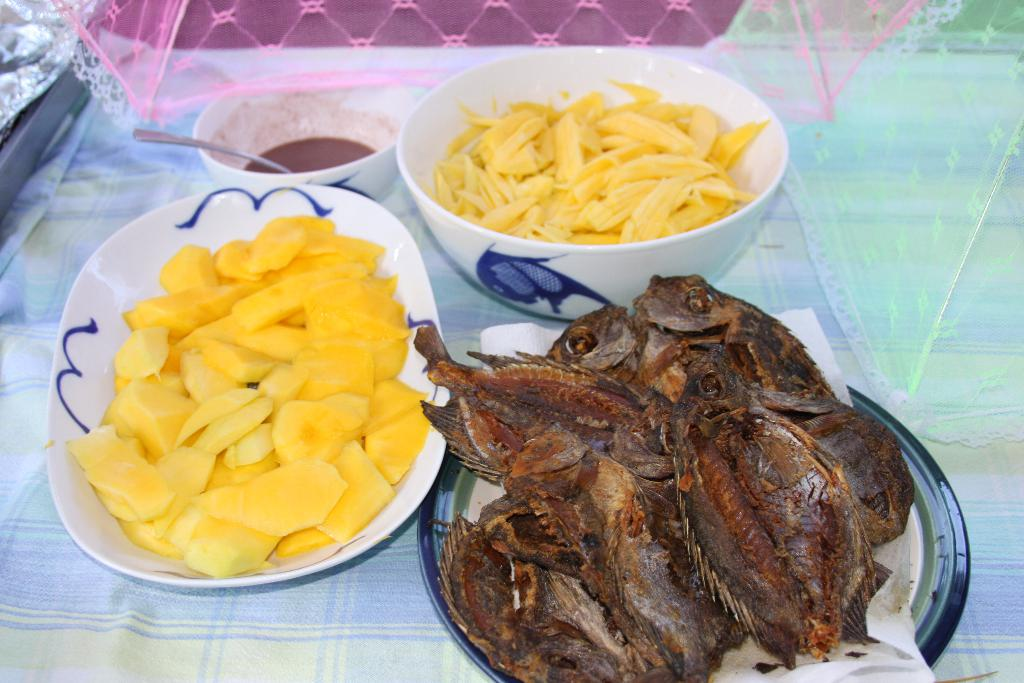French fries: (441, 71, 759, 241)
